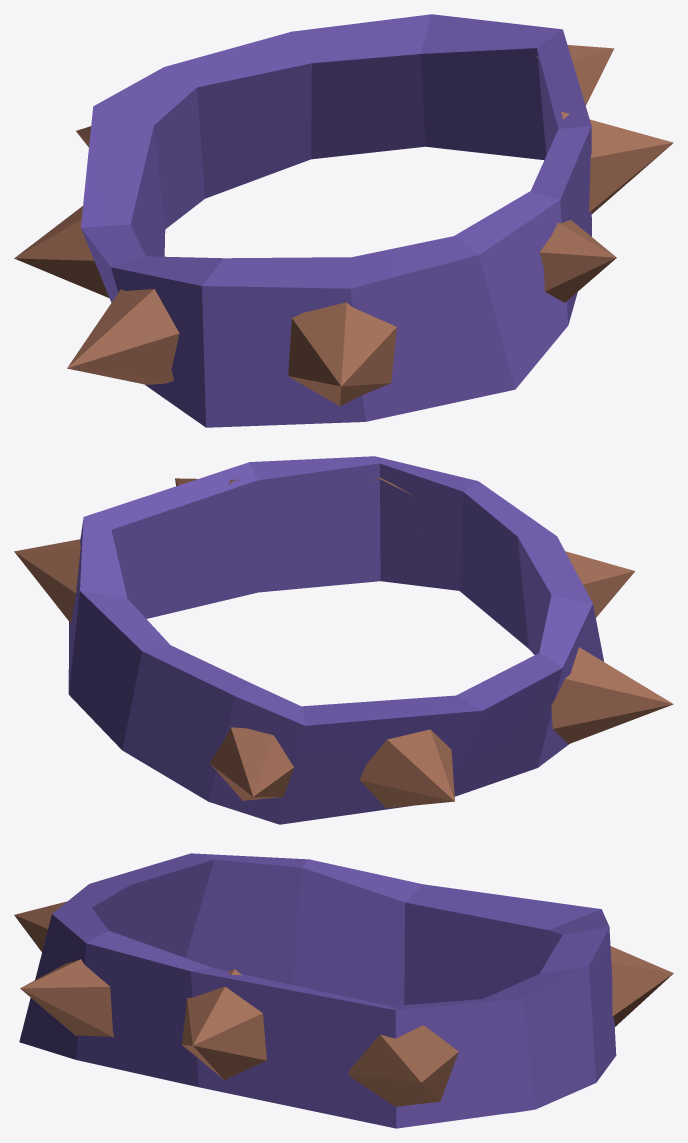
File: skelly02helmet.fbx
3 views of the same model, one above another, from view 1: azimuth 30°, elevation 25°; view 2: azimuth 150°, elevation 25°; view 3: azimuth 270°, elevation 25° (orthographic). The views are drawn at different scales.
Visible parts, largest first — view 1: skelly02helmet; view 2: skelly02helmet; view 3: skelly02helmet.
Part boxes in pixels (box(x1,y1,x2,y2)): skelly02helmet: box(14, 14, 673, 427); skelly02helmet: box(14, 456, 673, 824); skelly02helmet: box(14, 853, 673, 1128).
Bounding box in the file's own units: 0.7746 × 0.2435 × 0.7236.
